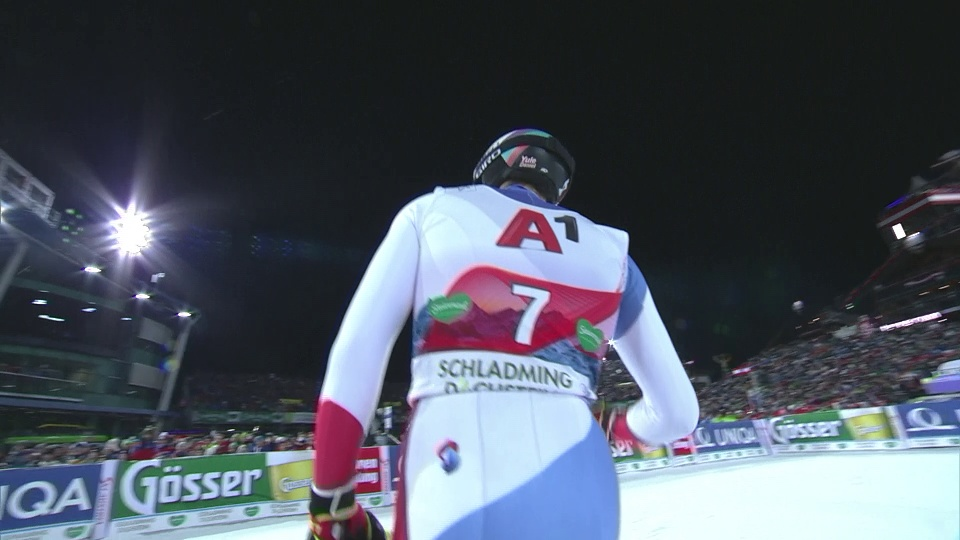a1: (495, 207, 584, 257)
goesser: (119, 454, 288, 514), (772, 414, 875, 448)
schladming: (436, 348, 586, 396)
steiermark: (427, 294, 474, 324), (569, 322, 605, 359)
uniqa: (1, 465, 104, 530), (901, 389, 959, 437), (698, 425, 757, 448)
